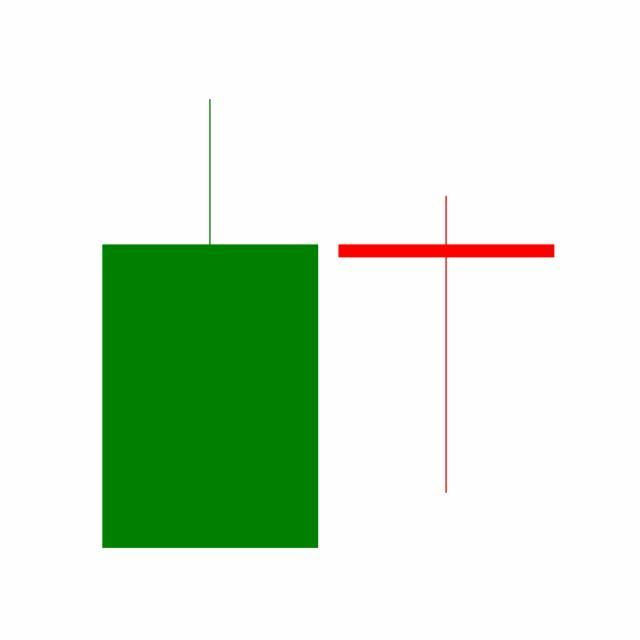Hanging Man: (328, 193, 566, 497)
